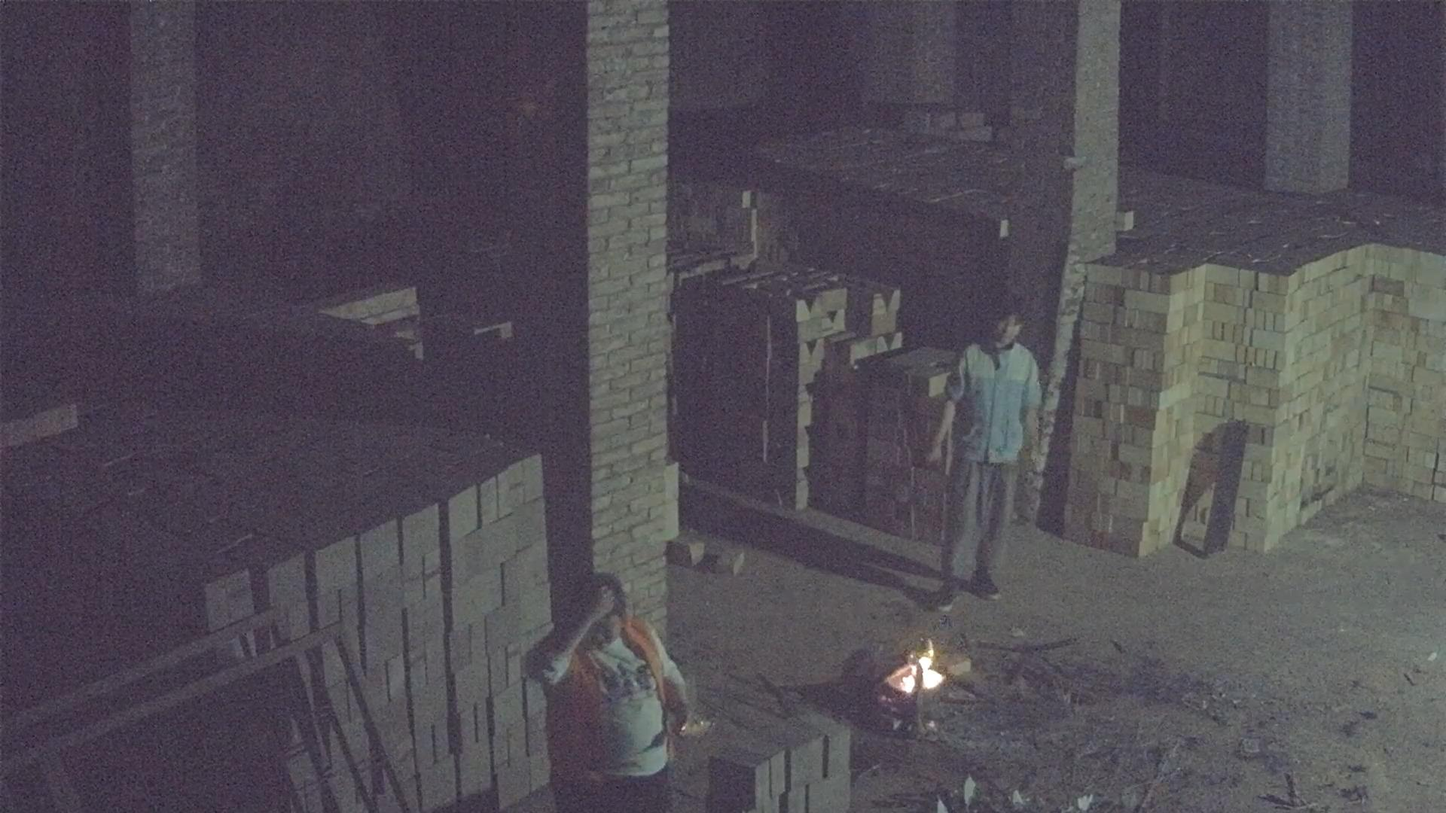fire: (898, 647, 945, 693)
